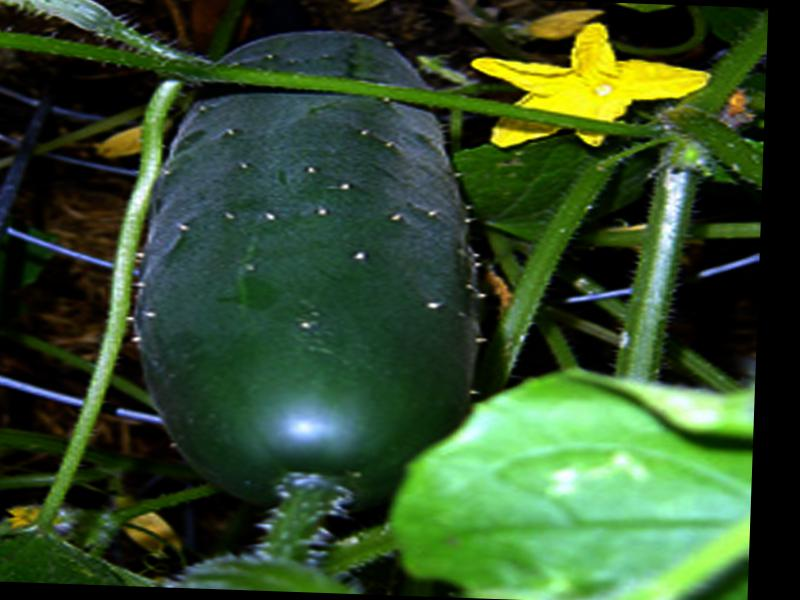Cucumber: (130, 28, 490, 524)
